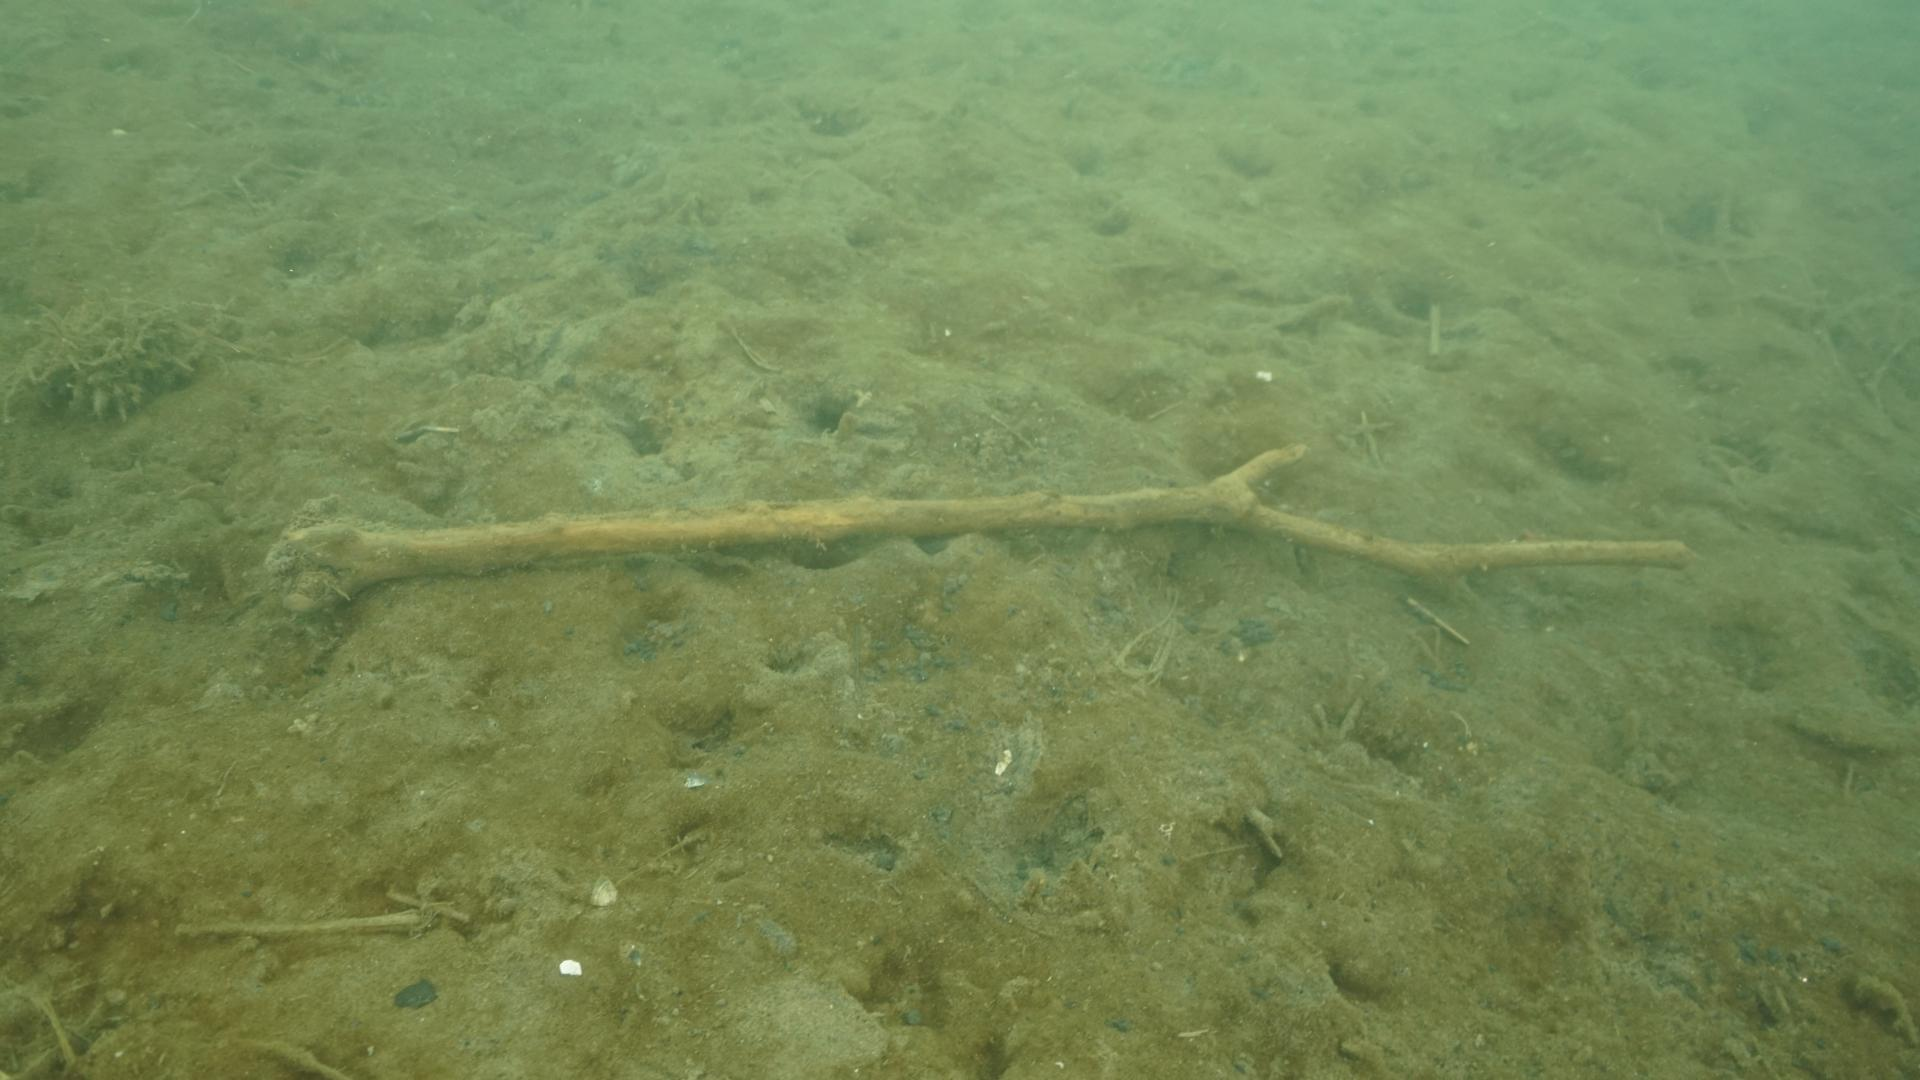wood: (260, 439, 1691, 615)
